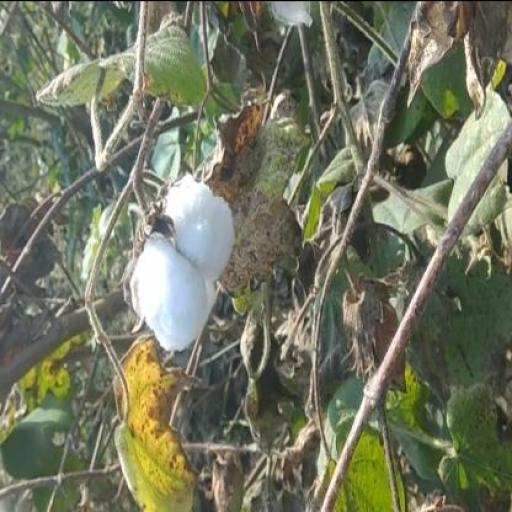cotton_ready: (128, 155, 242, 373)
